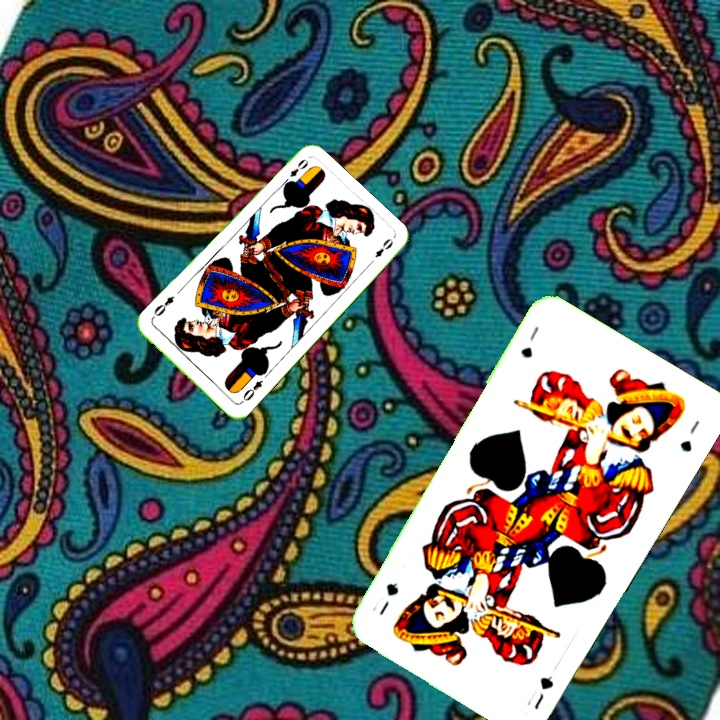EO: (239, 376, 265, 403), (285, 155, 311, 180)
GU: (522, 671, 556, 712), (516, 322, 542, 361)
